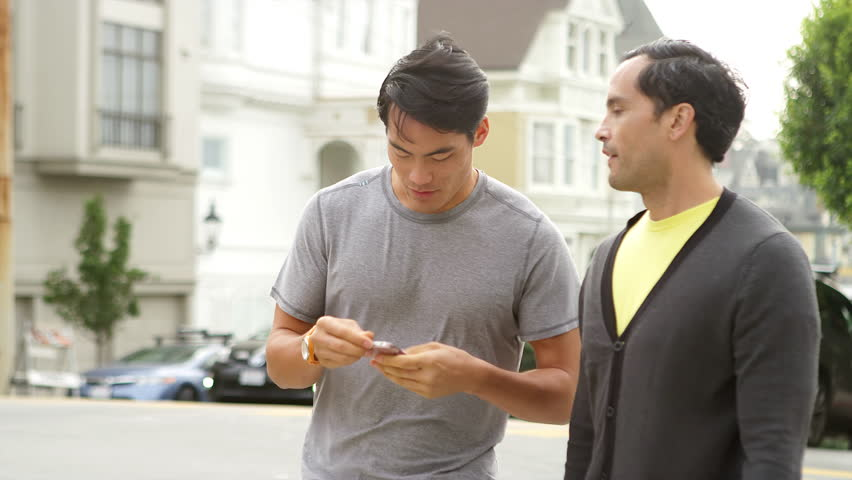Person: (260, 31, 587, 479), (564, 34, 821, 480)
